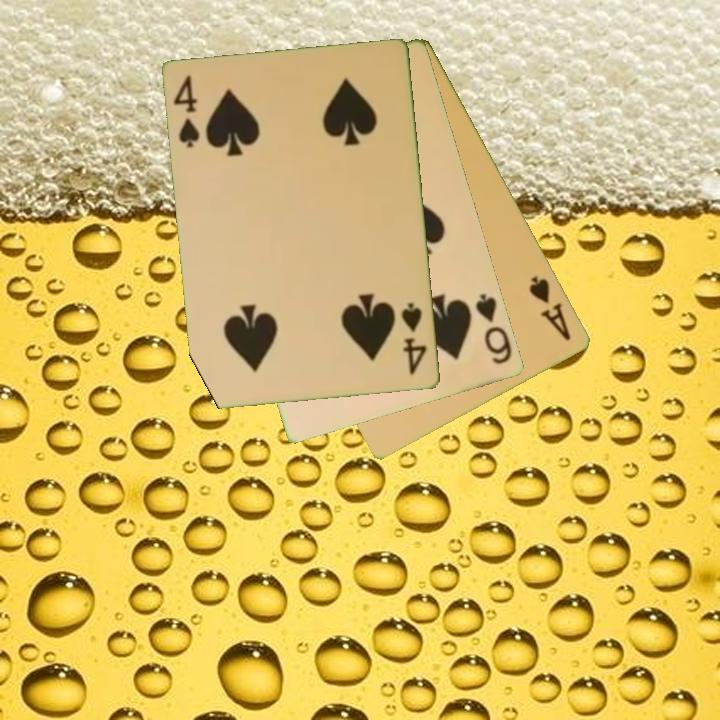4s: (170, 72, 203, 151), (398, 299, 430, 378)
6s: (472, 290, 515, 368)
As: (526, 273, 575, 344)
